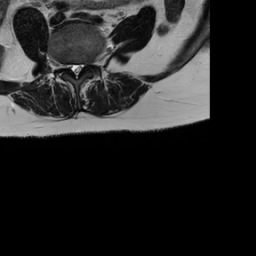CCS_normal: (72, 56, 78, 83)
LFS_severe_stenosis: (85, 57, 90, 72)
LLS_severe_stenosis: (78, 57, 84, 73)
RFS_stenosis: (61, 57, 68, 74)
RLS_stenosis: (67, 58, 73, 74)
